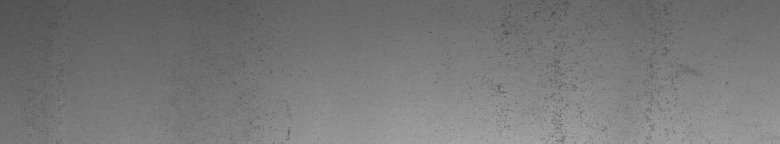ib: (486, 4, 701, 132)
